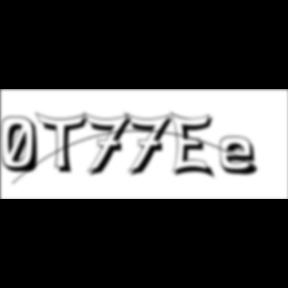0: (1, 115, 46, 174)
7: (124, 111, 179, 179), (84, 111, 138, 179)
E: (171, 110, 220, 182)
T: (36, 112, 94, 176)
e: (220, 135, 266, 178)
